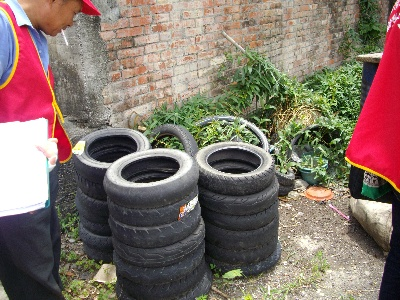tire: (103, 147, 199, 208), (194, 141, 275, 195), (106, 203, 204, 247), (74, 127, 149, 182), (109, 184, 200, 226), (199, 176, 279, 217)
